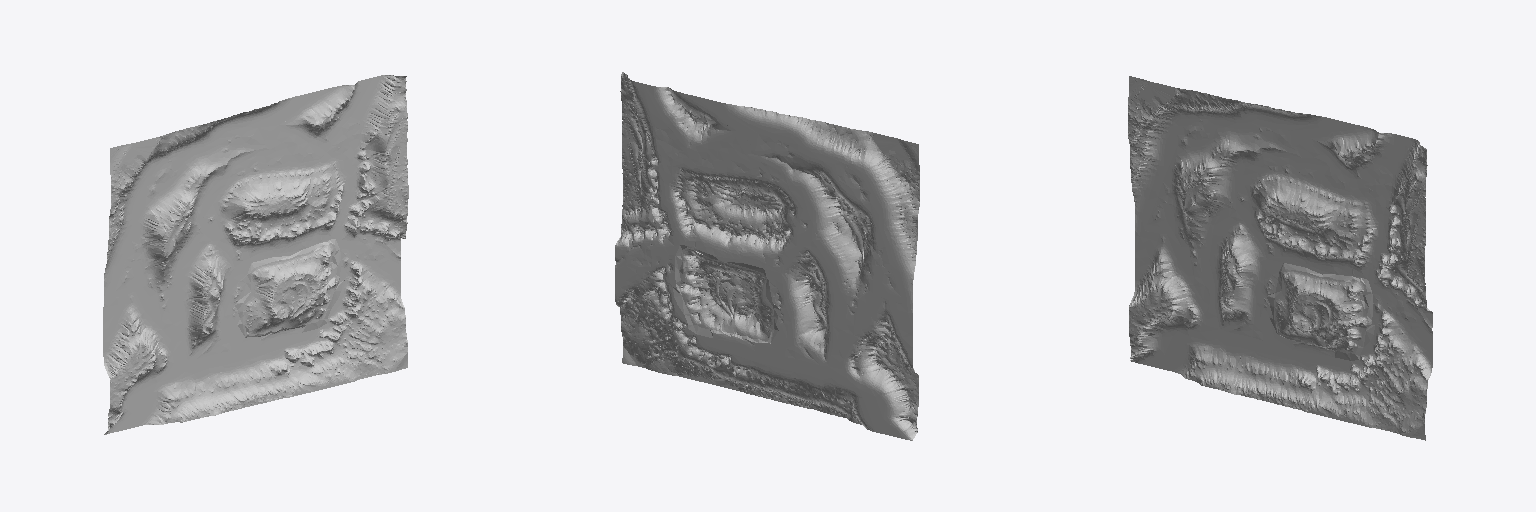
File: bottom.obj
3 renders of one model, left to right at view 1: azimuth 30°, elevation 25°; view 2: azimuth 150°, elevation 25°; view 3: azimuth 330°, elevation 25°, orthographic.
Visible parts, largest first — view 1: Plane.001; view 2: Plane.001; view 3: Plane.001.
Boxes of the visible parts, x1,y1,x2,y2 form: Plane.001: [103, 75, 408, 434]; Plane.001: [615, 72, 919, 440]; Plane.001: [1128, 76, 1432, 440].
Bounding box in the file's own units: 694 × 651 × 33.53.